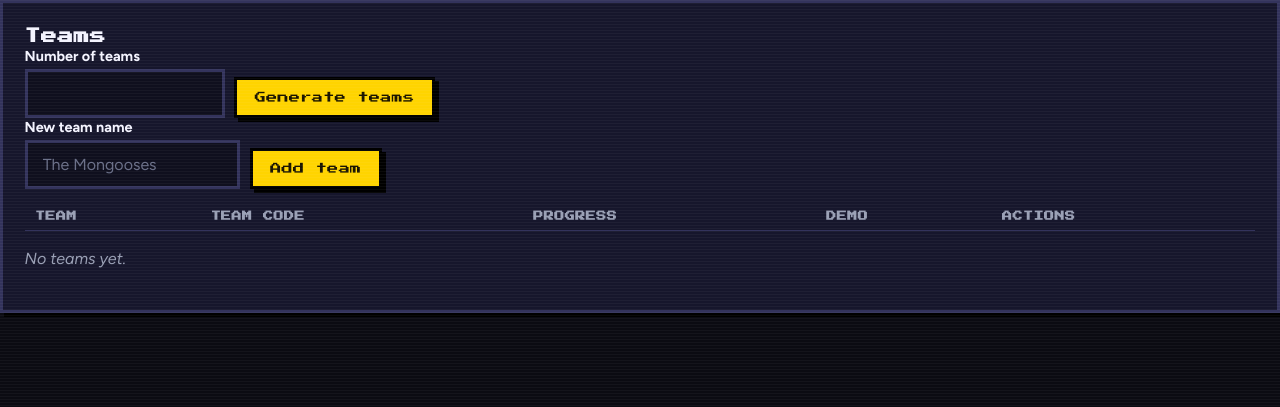
it: TeamsPanel › surfaces a thrown error from Generate teams instead of swallowing it
The image size is (1280, 407).
In the number field labelled "Number of teams": x=125, y=94 [25,69,225,118], type "3"
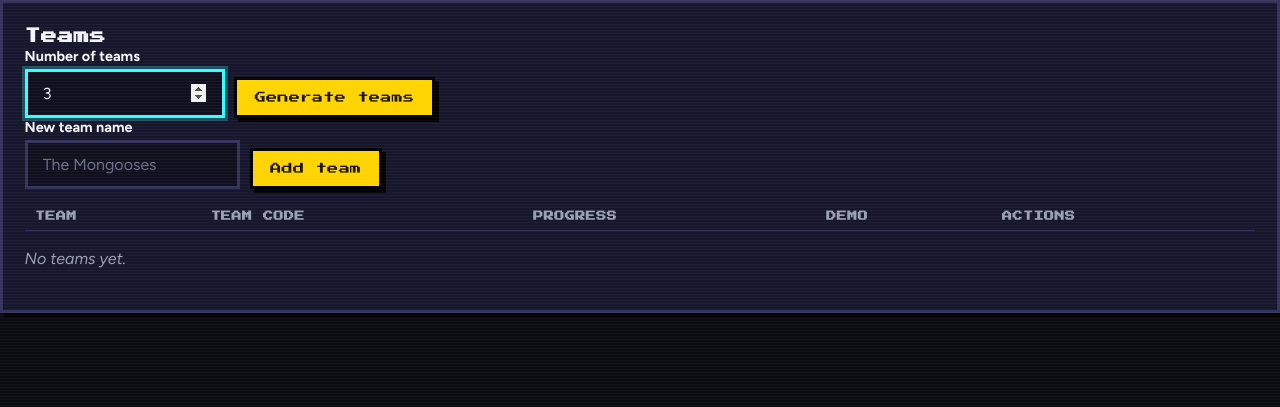
Click the button "Generate teams": x=335, y=98 [234,77,435,118]
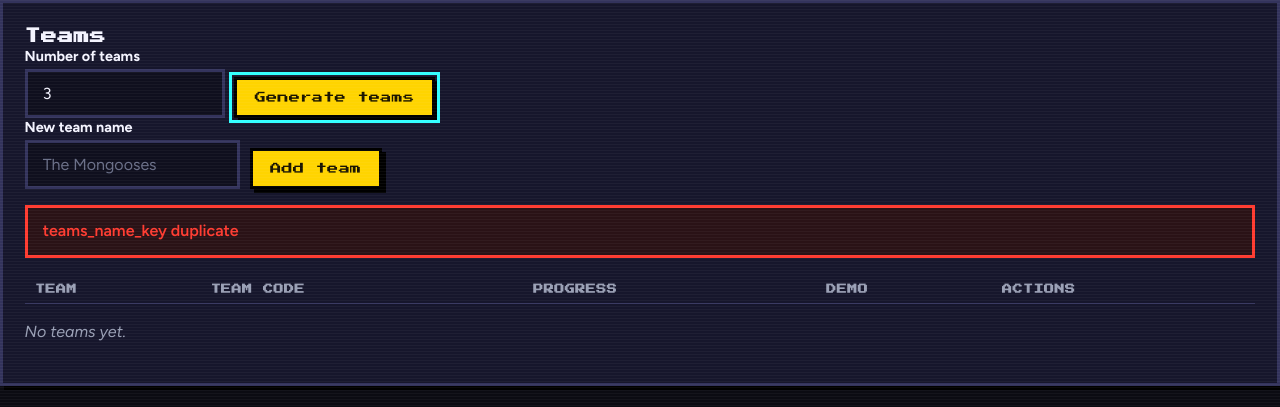
Expected: the text "teams_name_key duplicate" is shown, [25,205,1255,258]
